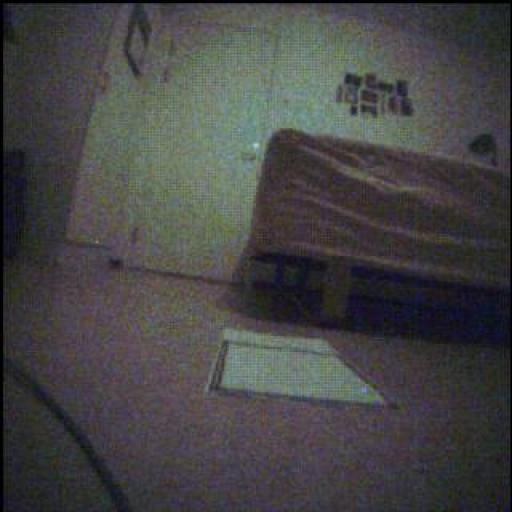pad: (207, 329, 390, 406)
